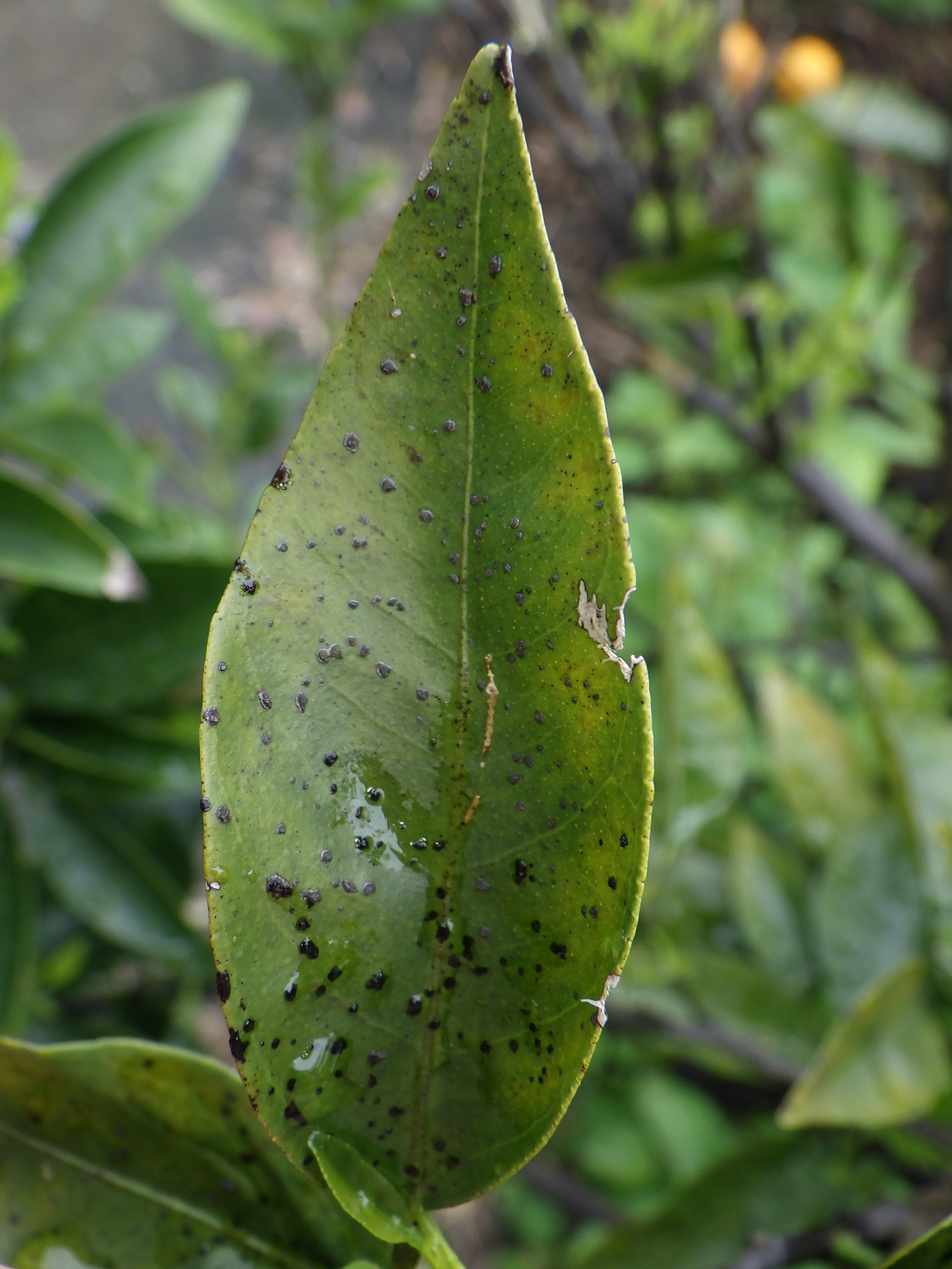Oily_Spot: (200, 44, 653, 1206)
